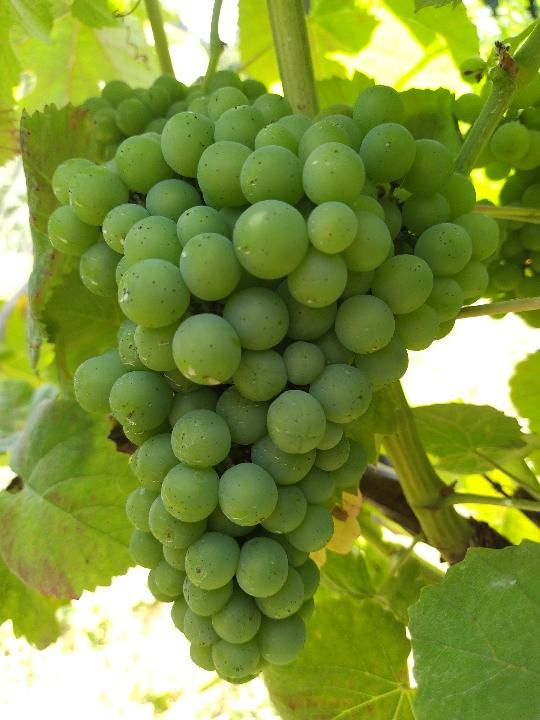grape: (47, 83, 500, 686)
